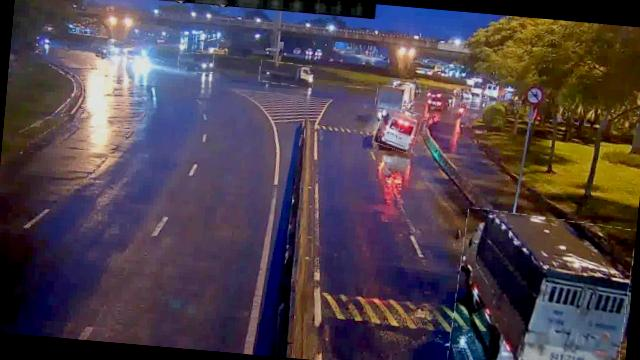Bike: (460, 102, 466, 116)
Bus: (374, 104, 422, 153)
Truck: (447, 209, 635, 360), (258, 61, 316, 88), (177, 51, 214, 74), (375, 86, 404, 112)
